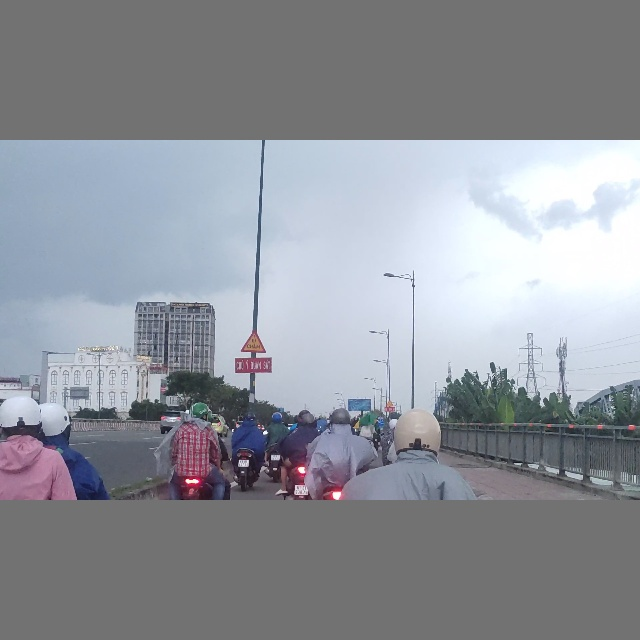W.245a: (240, 330, 267, 353)
